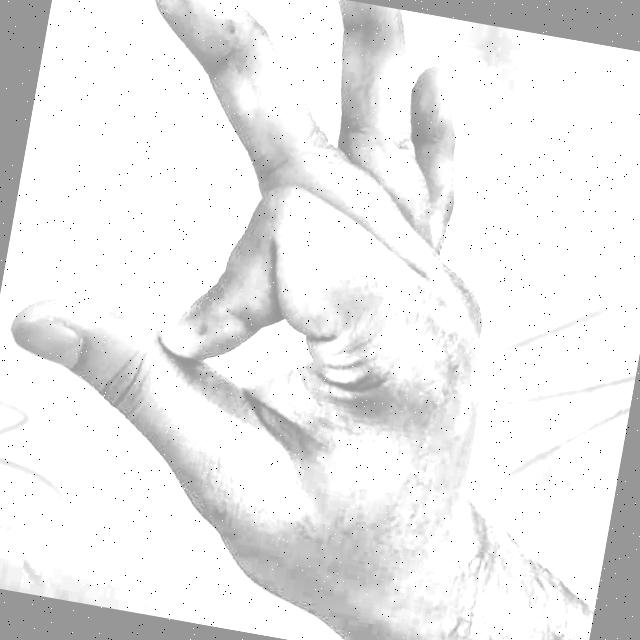Uo: (0, 0, 594, 640)
